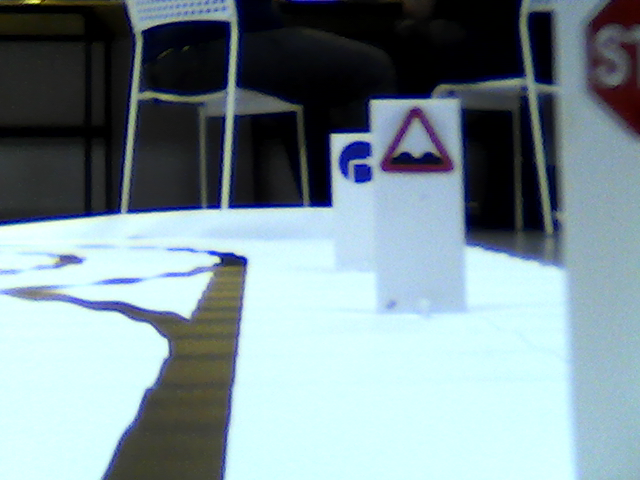Nerov: (379, 107, 453, 174)
Right: (337, 141, 373, 182)
